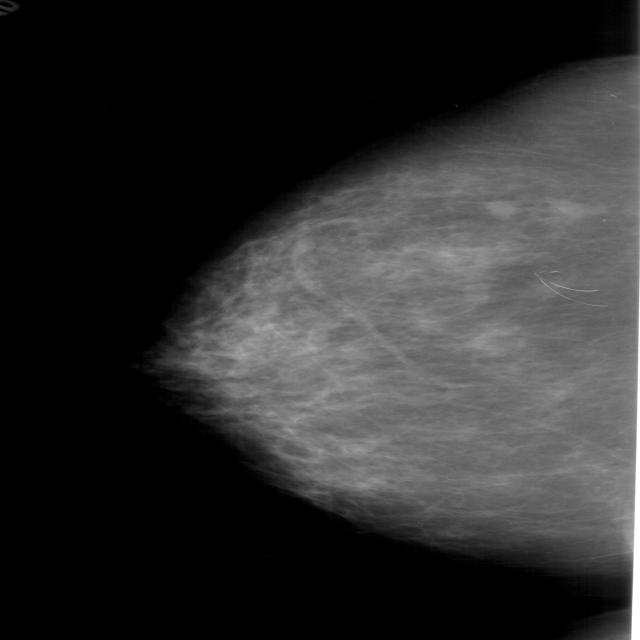normal: (187, 39, 640, 556)
